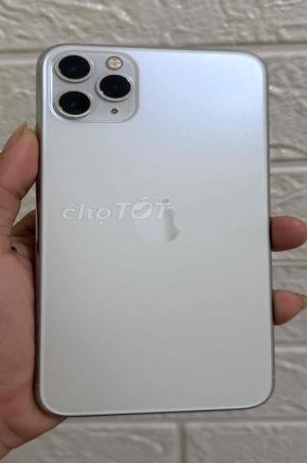scratch: (49, 51, 135, 120)
